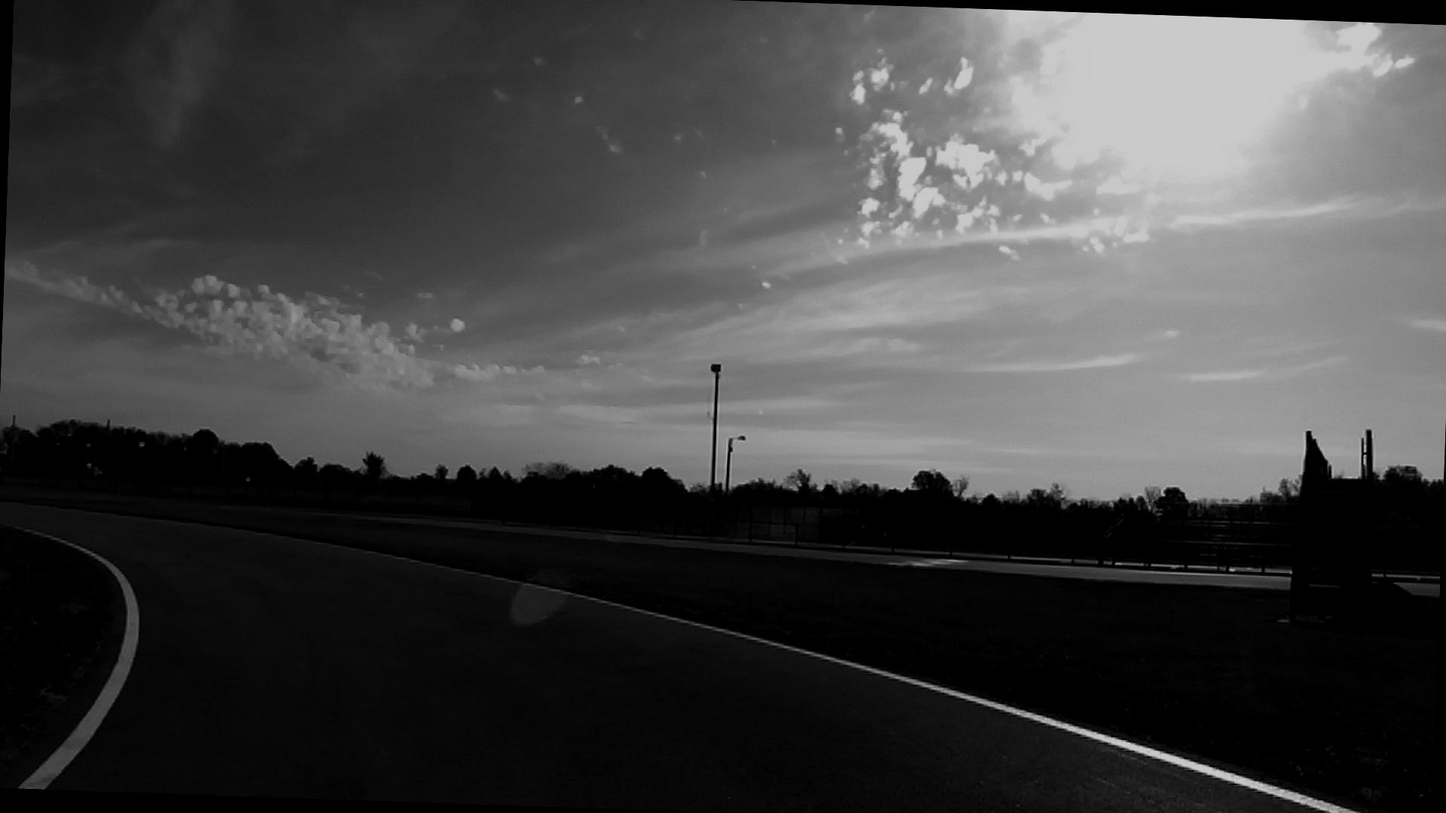white-line: (324, 544, 1370, 813), (18, 529, 140, 790)
